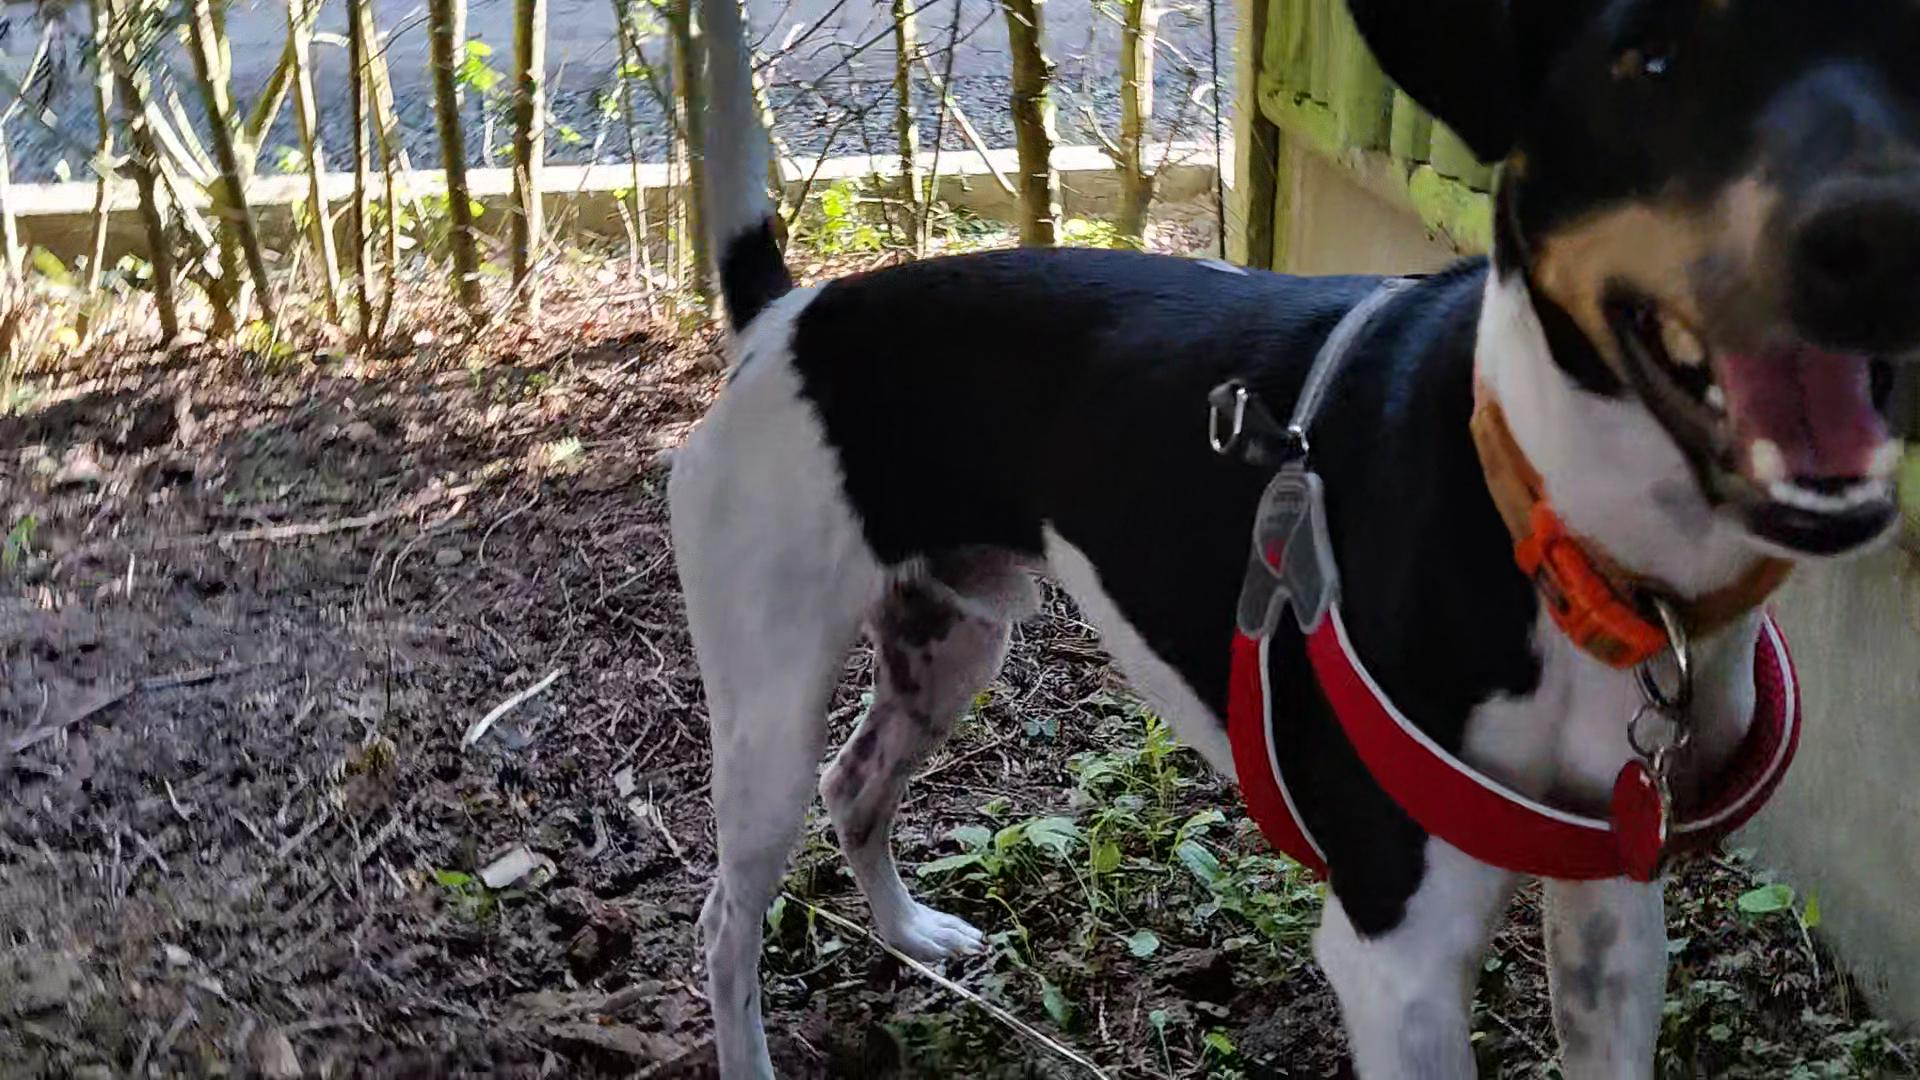Dog: (655, 0, 1919, 1079)
